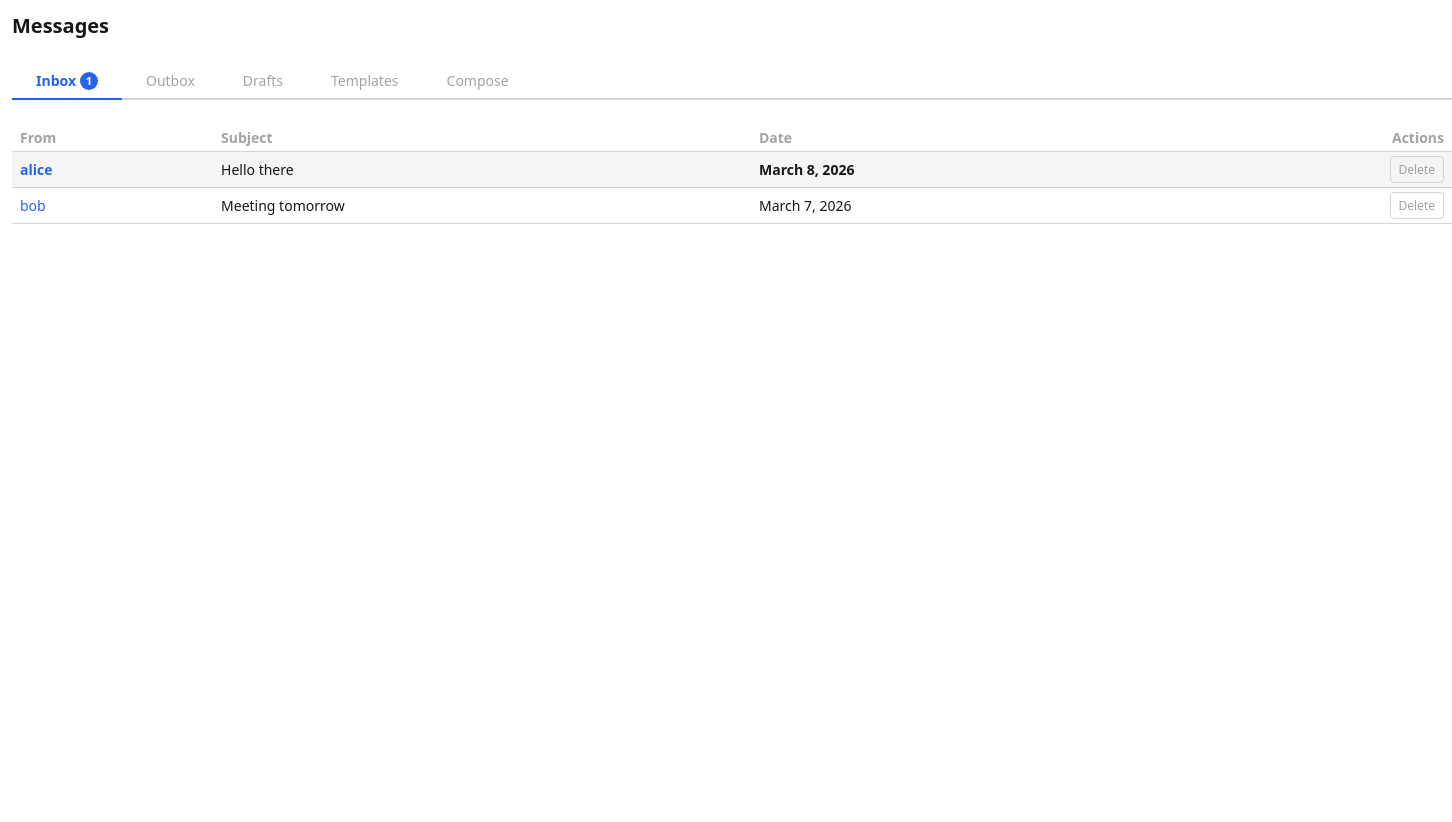
Test: MessagesPage markdown › composes messages with the markdown editor
This screenshot has width=1452, height=822.
Check: the button "Hello there" is shown, box 221,160 -> 294,179
What coordinates should you click on to do the following:
click the button "Compose"
I would click on:
 (478, 82)
Its box is 422,63 -> 533,100.
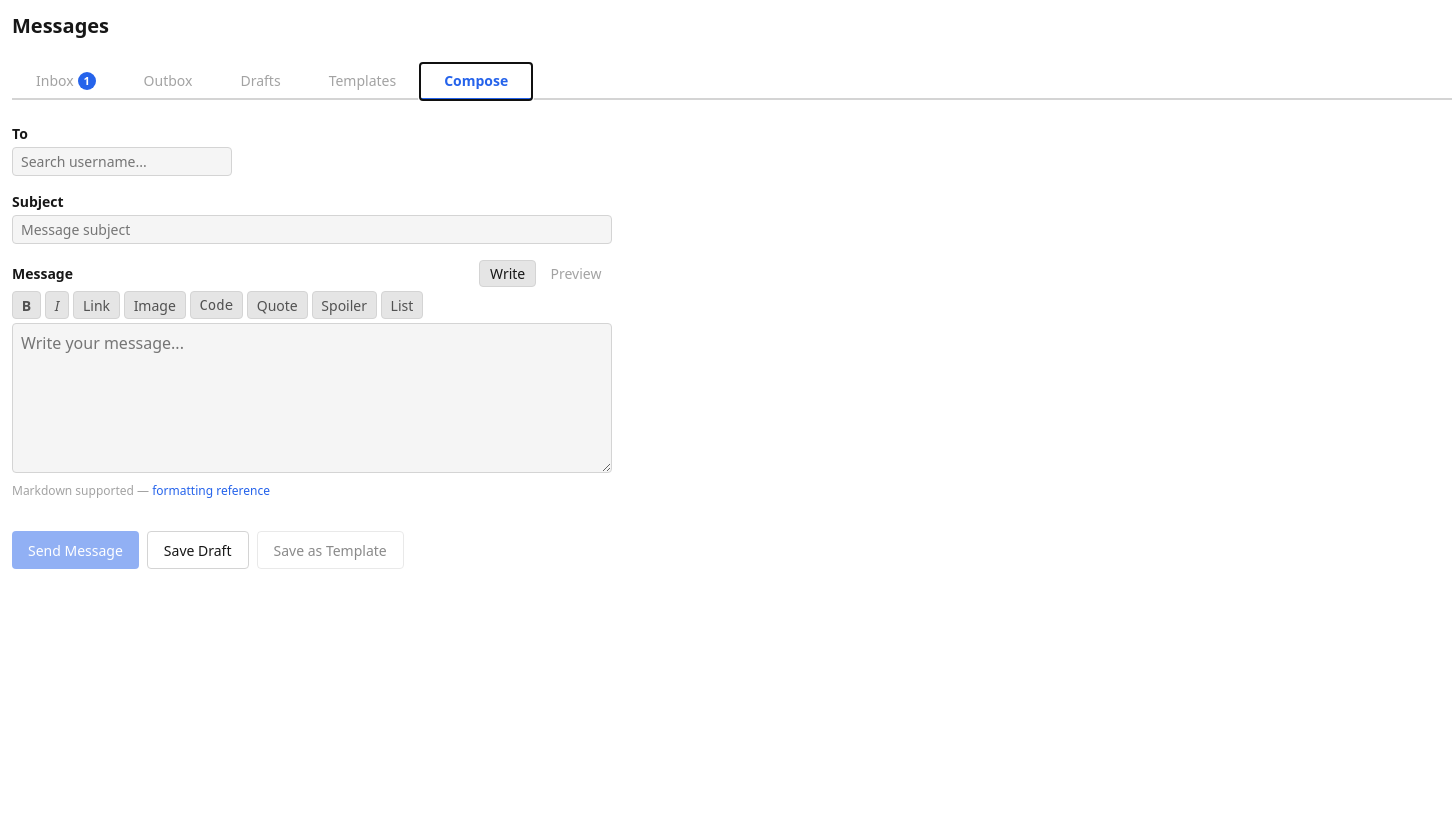
Check: the button named "Bold" is shown, box 12,291 -> 41,319
Check: the text box labelled "Message" is shown, box 12,323 -> 612,473
Check: the button "Preview" is shown, box 540,260 -> 612,287
